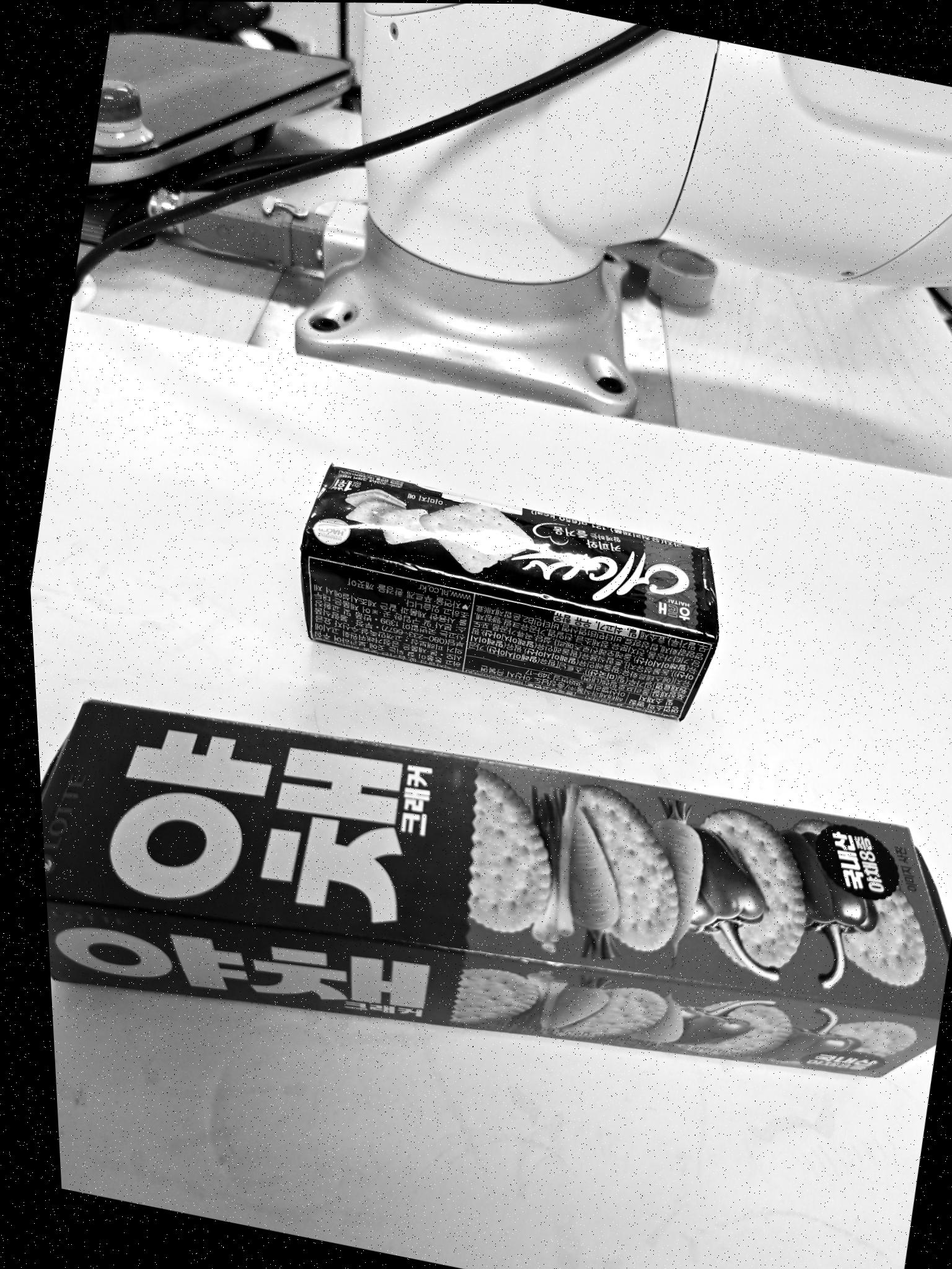cracker_ace: (301, 466, 718, 719)
cracker_vege: (41, 701, 952, 1077)
